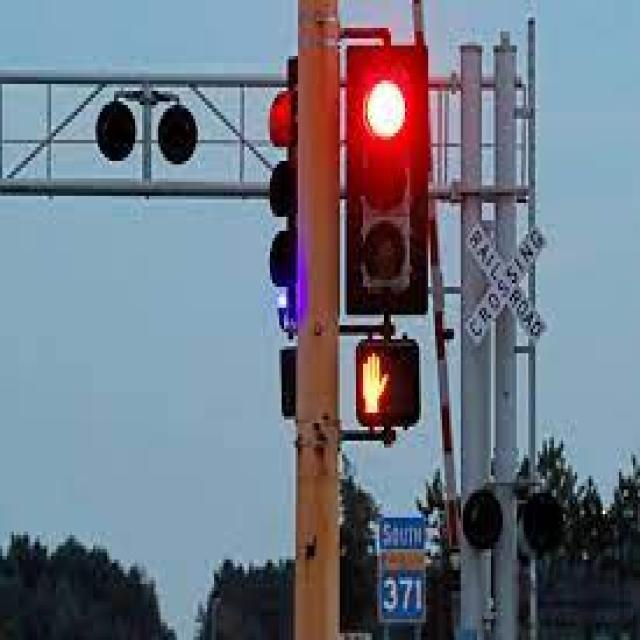red: (346, 41, 426, 306)
